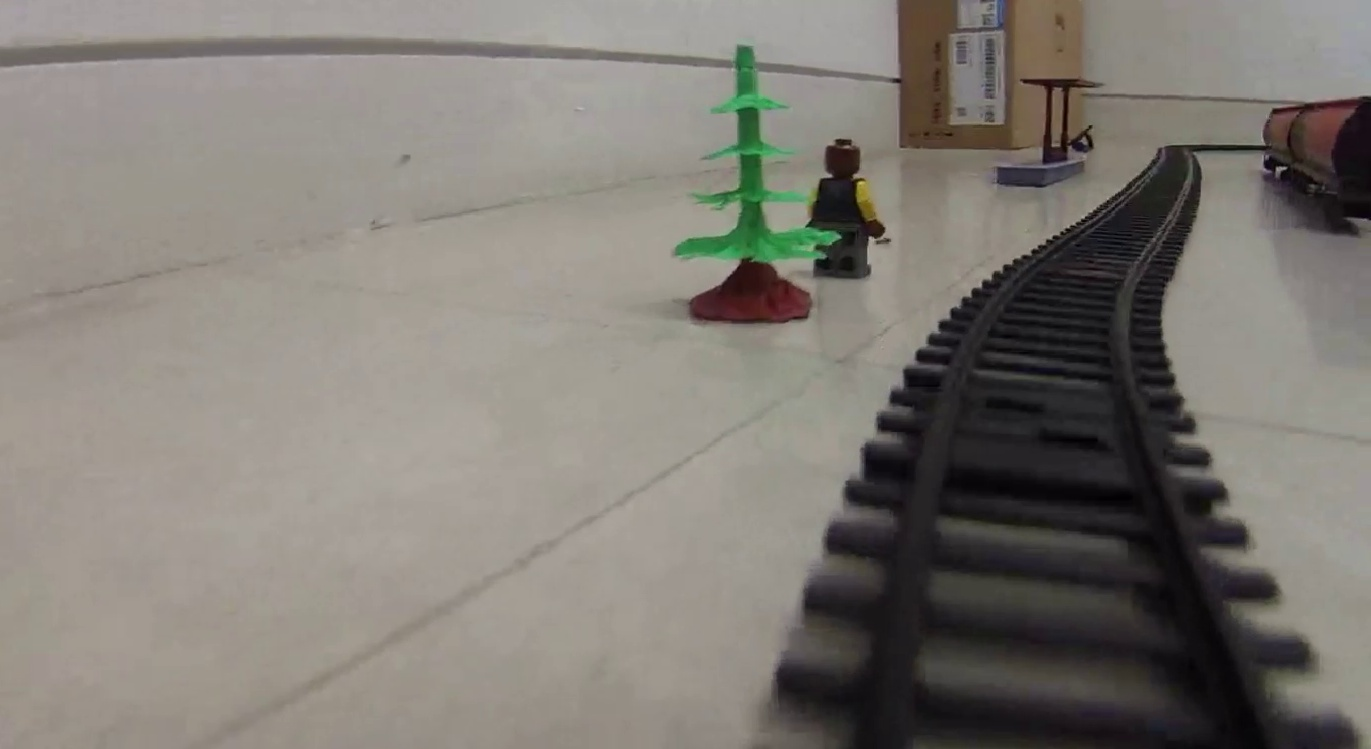people: (812, 138, 882, 283)
tree: (672, 46, 817, 321)
